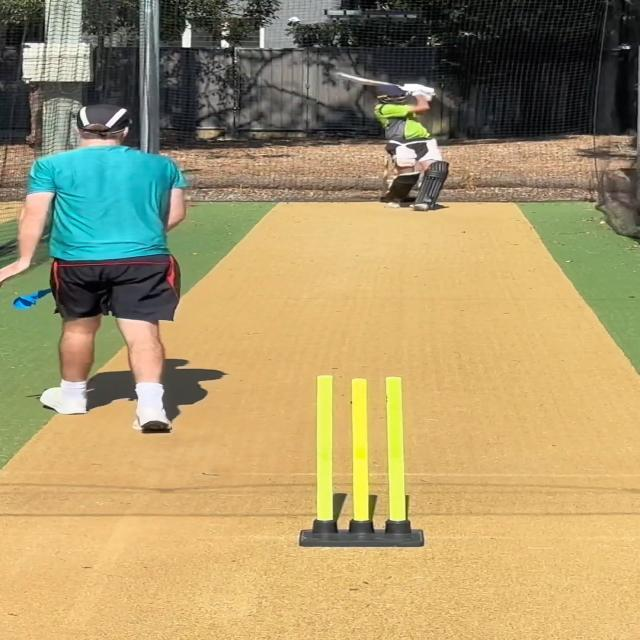stump: (298, 372, 426, 550)
